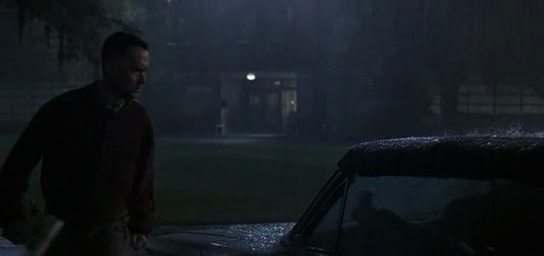face: (128, 60, 149, 107)
ms: (1, 1, 544, 256)
person: (1, 31, 156, 256)
